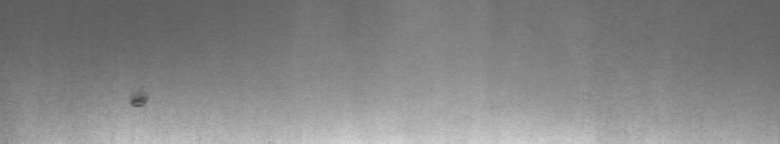fi: (128, 89, 152, 115)
